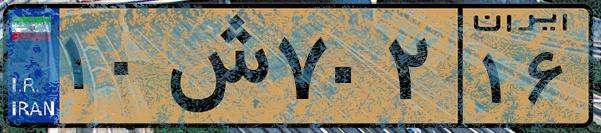0: (330, 28, 385, 110), (110, 28, 158, 98)
1: (57, 26, 110, 100), (475, 38, 525, 113)
2: (385, 28, 445, 110)
6: (525, 38, 570, 115)
7: (270, 28, 330, 110)
ش: (158, 12, 270, 120)
